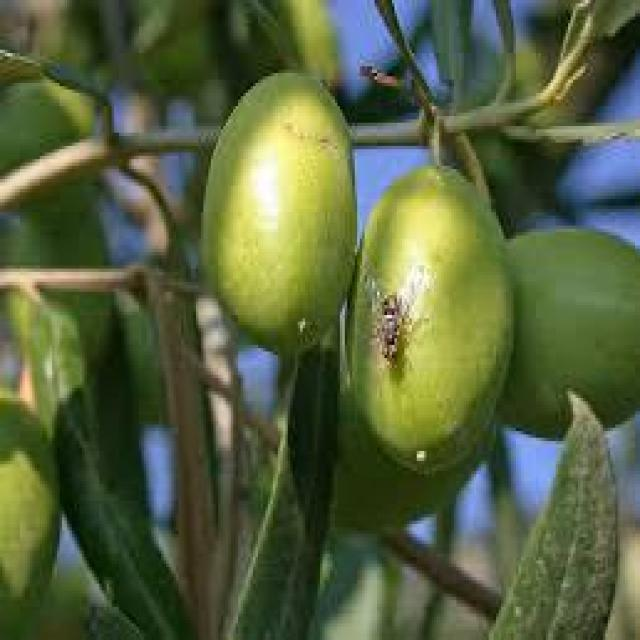Olive Fruit Fly: (350, 166, 512, 478)
